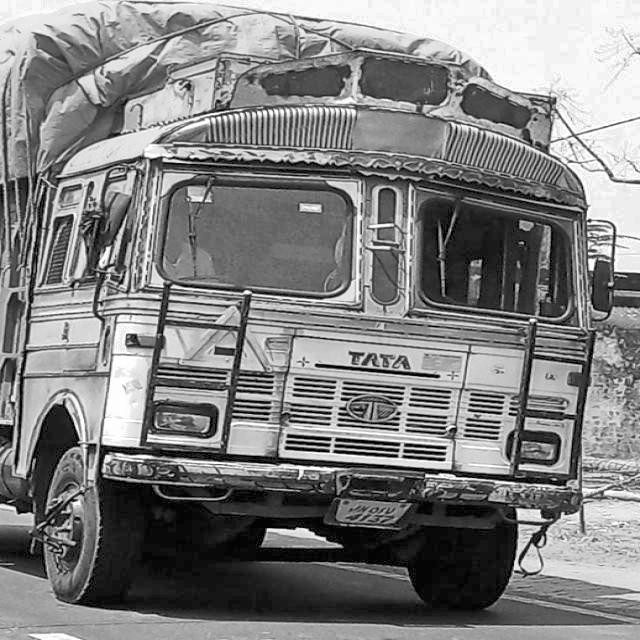HCV: (53, 41, 640, 640)
